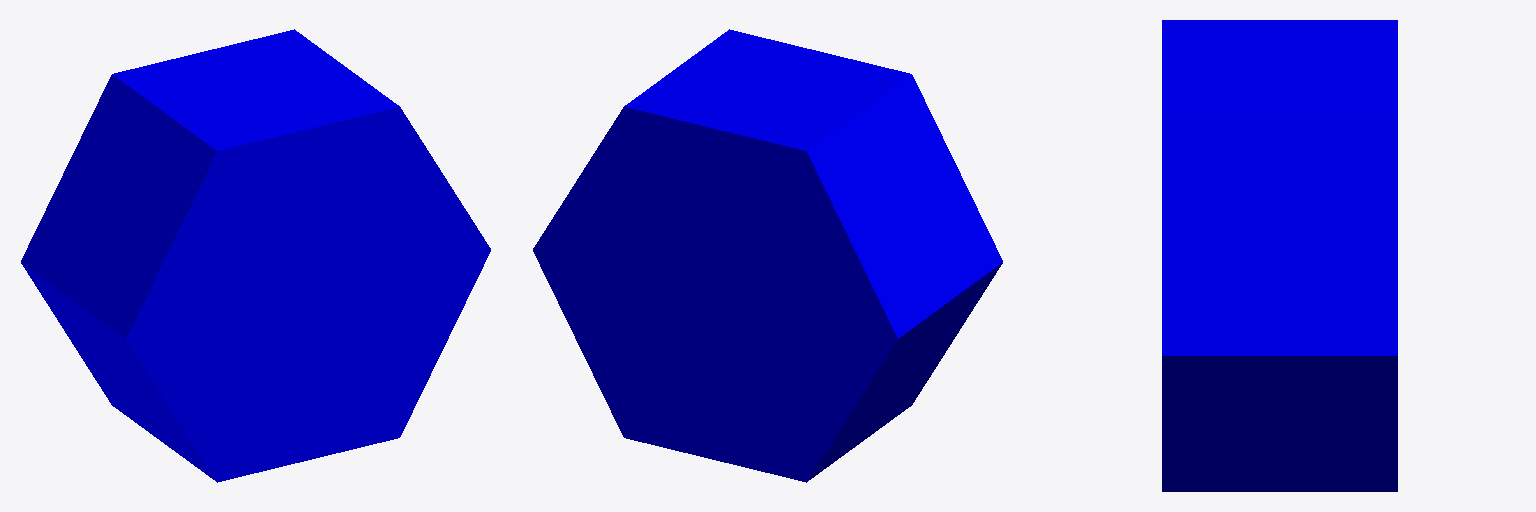
robot.urdf — block_t:
<?xml version="1.0"?>
<robot name="block_t">
  <link concave="no" name="block_t_base_link">
    <contact>
      <lateral_friction value="0.7"/>
      <spinning_friction value=".001"/>
    </contact>
    <visual>
      <origin rpy="0 0 0" xyz="0.0 0.0 0.0"/>
      <geometry>
        <mesh filename="package://blocks/hexagon.stl"/>
      </geometry>
      <material name="blockmat">
        <color rgba="0 0 1 1"/>
      </material>
    </visual>
    <collision>
      <origin rpy="0 0 0" xyz="0.0 0.0 0.0"/>
      <geometry>
        <mesh filename="package://blocks/hexagon.stl"/>
      </geometry>
    </collision>
    <inertial>
        <origin rpy="0 0 0" xyz="0 0 0"/>
        <mass value="1"/>
        <inertia ixx="0.1" ixy="0." ixz="0." iyy="0.1" iyz="0." izz="0.1"/>
    </inertial>
  </link>
</robot>

--- What the picture shows (computed from the rendered views, not written in the file) ---
Views: 3 orthographic renders of the robot side by side, from view 1: azimuth 30°, elevation 25°; view 2: azimuth 150°, elevation 25°; view 3: azimuth 270°, elevation 25°.
Model block_t with 1 links and 0 joints (none), rooted at block_t_base_link, posed all joints at 0.
Links seen in each view (by area): view 1: block_t_base_link; view 2: block_t_base_link; view 3: block_t_base_link.
Link boxes in pixels (x1=…): block_t_base_link: x1=21, y1=29, x2=490, y2=482; block_t_base_link: x1=533, y1=29, x2=1002, y2=482; block_t_base_link: x1=1162, y1=20, x2=1397, y2=491.
Size in the robot's own frame: 2 by 1 by 1.73 metres.
1 mesh visuals loaded from 1 distinct referenced files (1 binary STL).